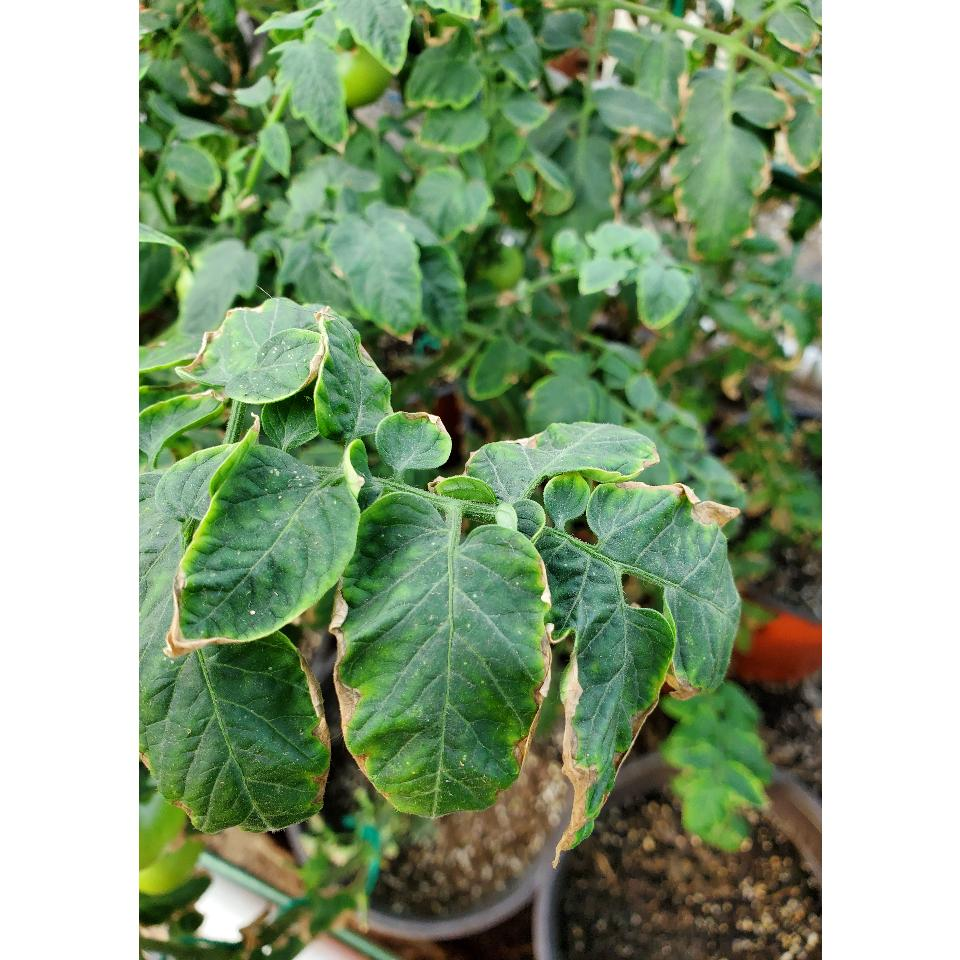tomato_bacterial_blight: (326, 503, 560, 825), (160, 449, 362, 665), (145, 636, 327, 840), (594, 475, 746, 719), (555, 638, 659, 874)
